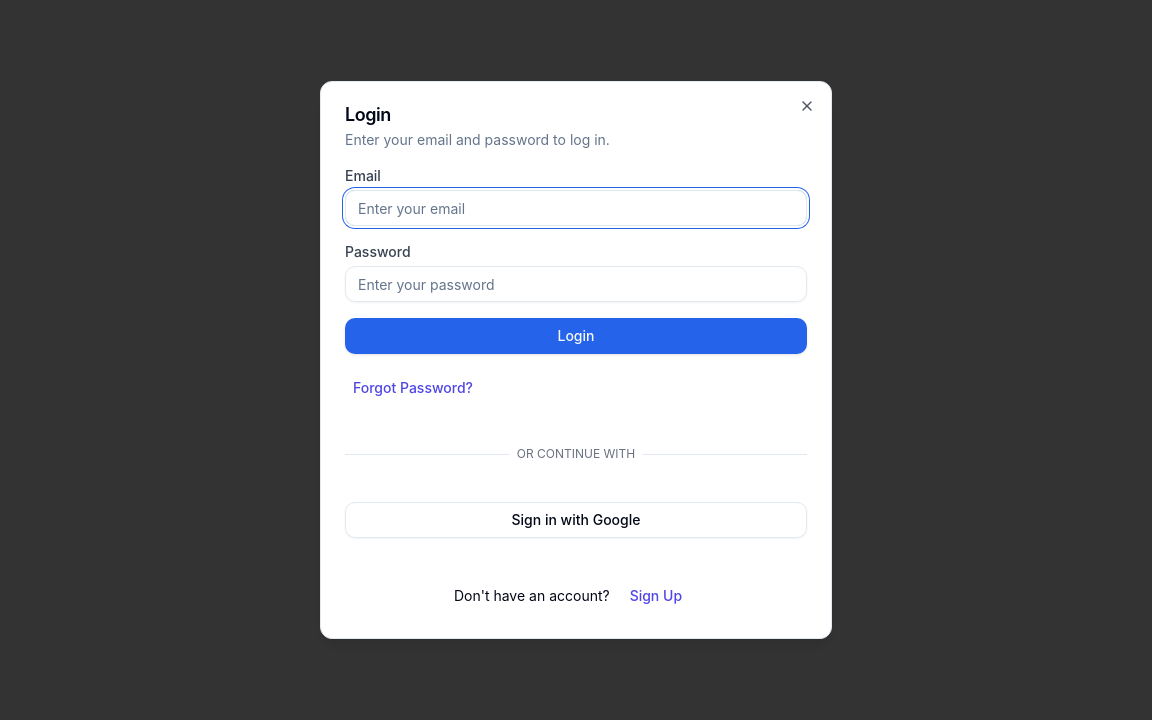
AuthModal › handles authentication errors
Step 1. Type "test@example.com" into the field with placeholder "Enter your email" → (576, 208), box top-left (345, 190), bottom-right (807, 226)
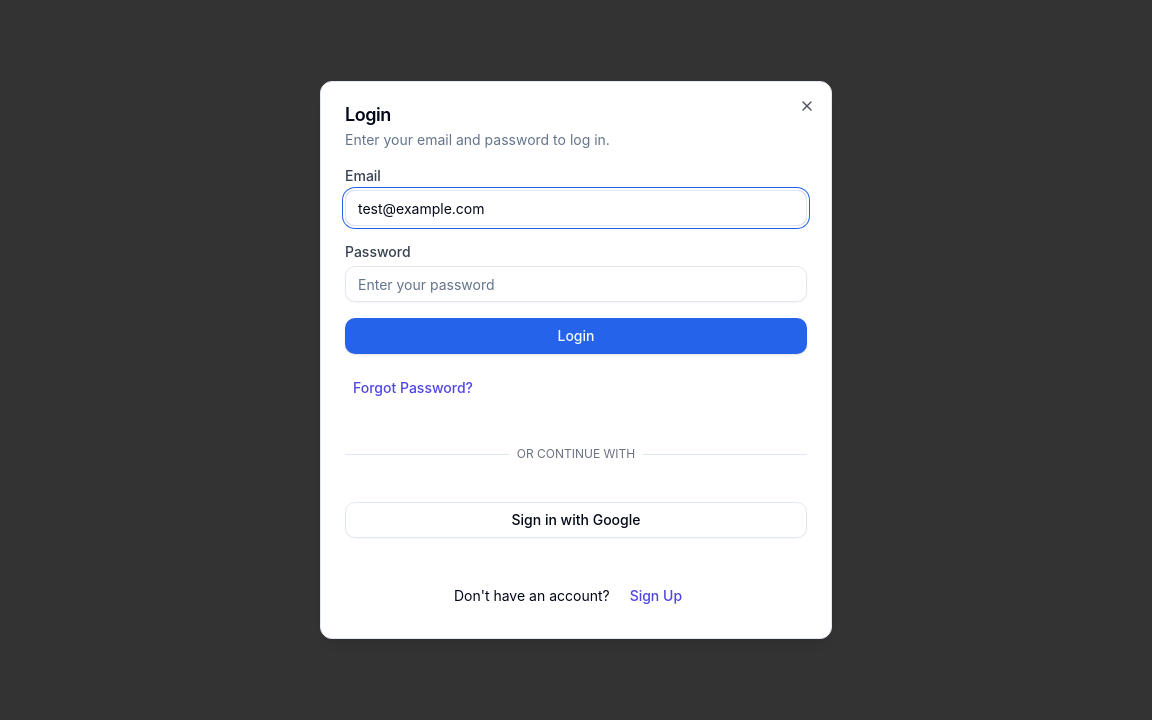
Step 2. Type "wrongpassword" into the password field with placeholder "Enter your password" → (576, 284), box top-left (345, 266), bottom-right (807, 302)
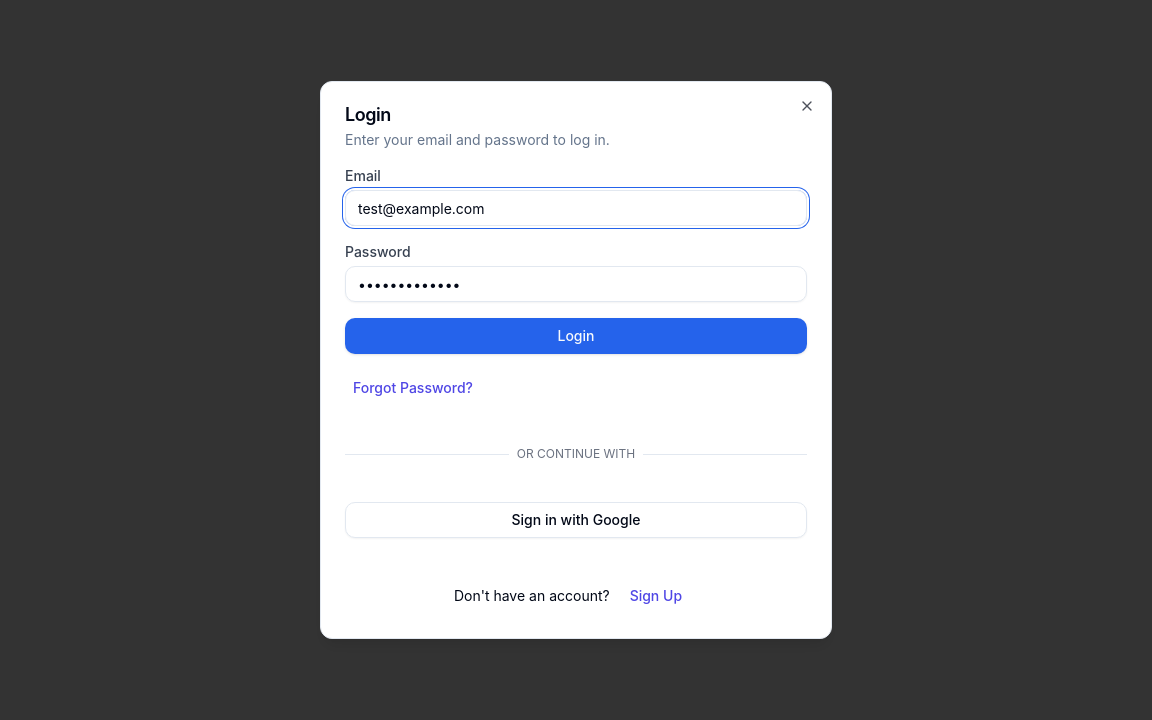
Step 3. Click the button "Login" → (576, 336), box top-left (345, 318), bottom-right (807, 354)
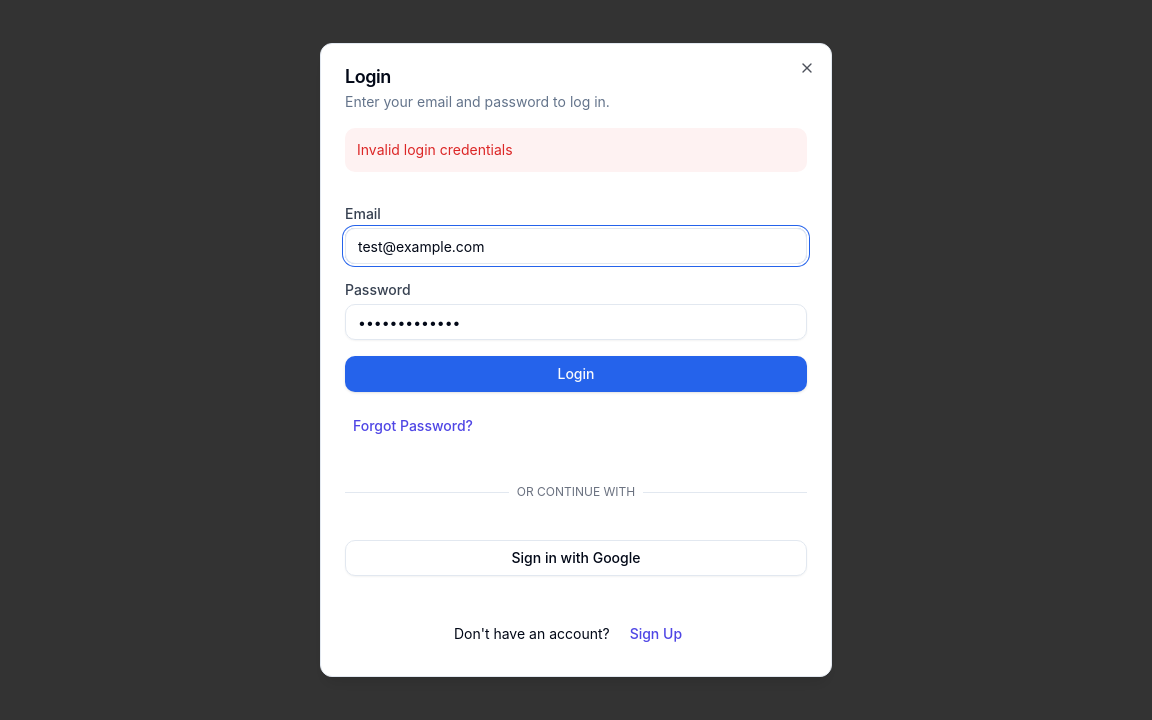
Expected: the text "Invalid login credentials" is shown, top-left (345, 128), bottom-right (807, 172)
